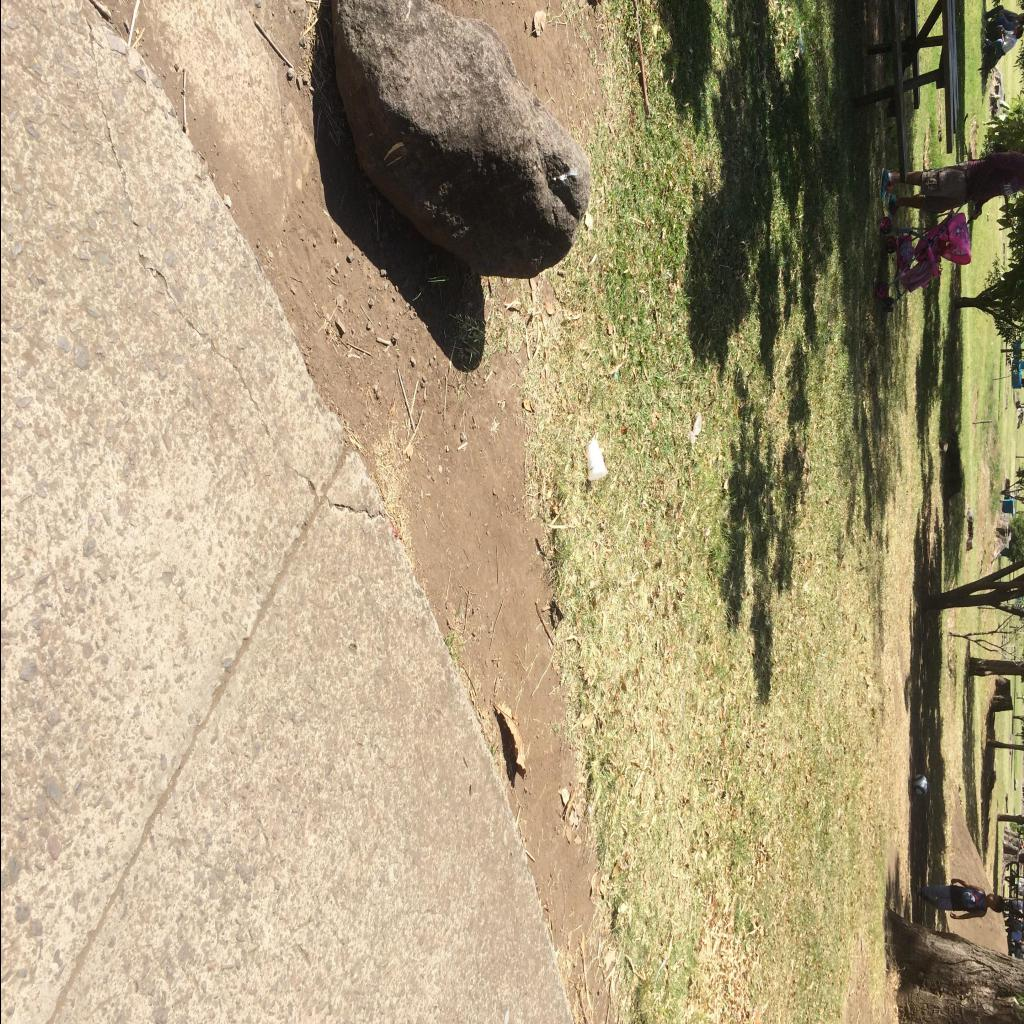Disposable plastic cup: (584, 440, 606, 480)
